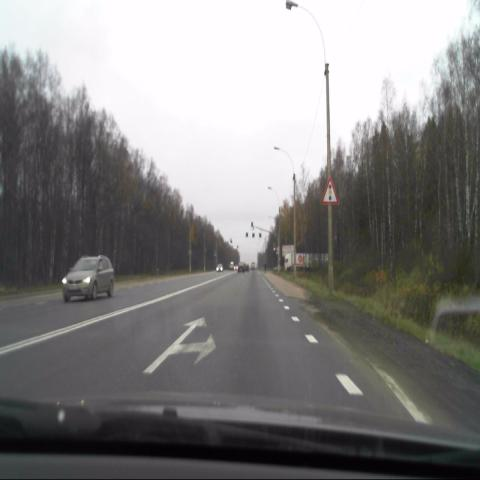1_8: (320, 176, 339, 206)
